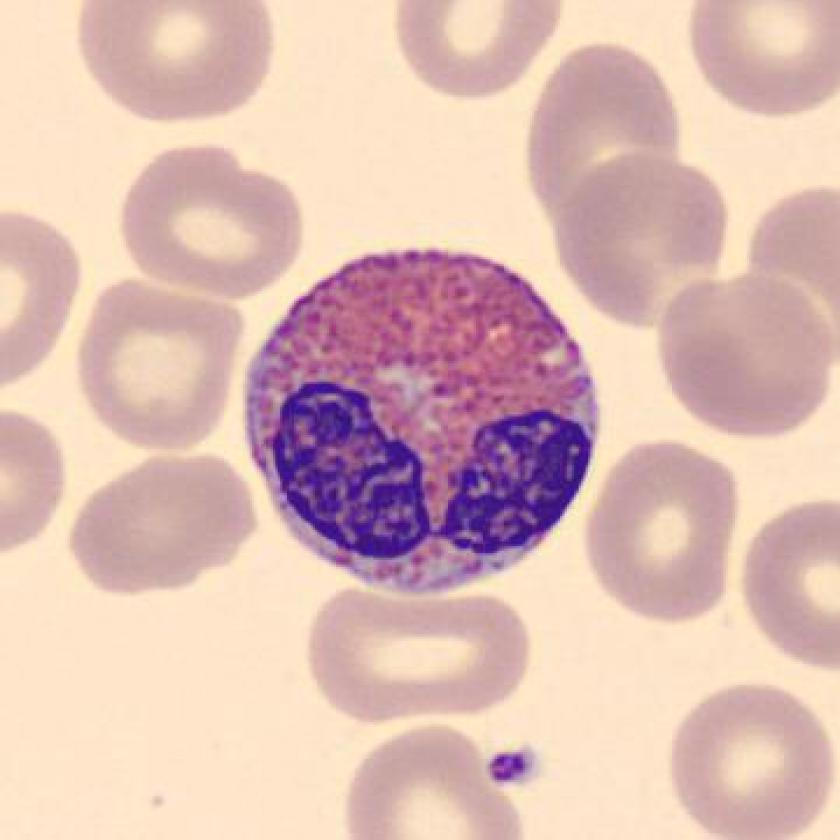eosinophil: (232, 232, 617, 612)
